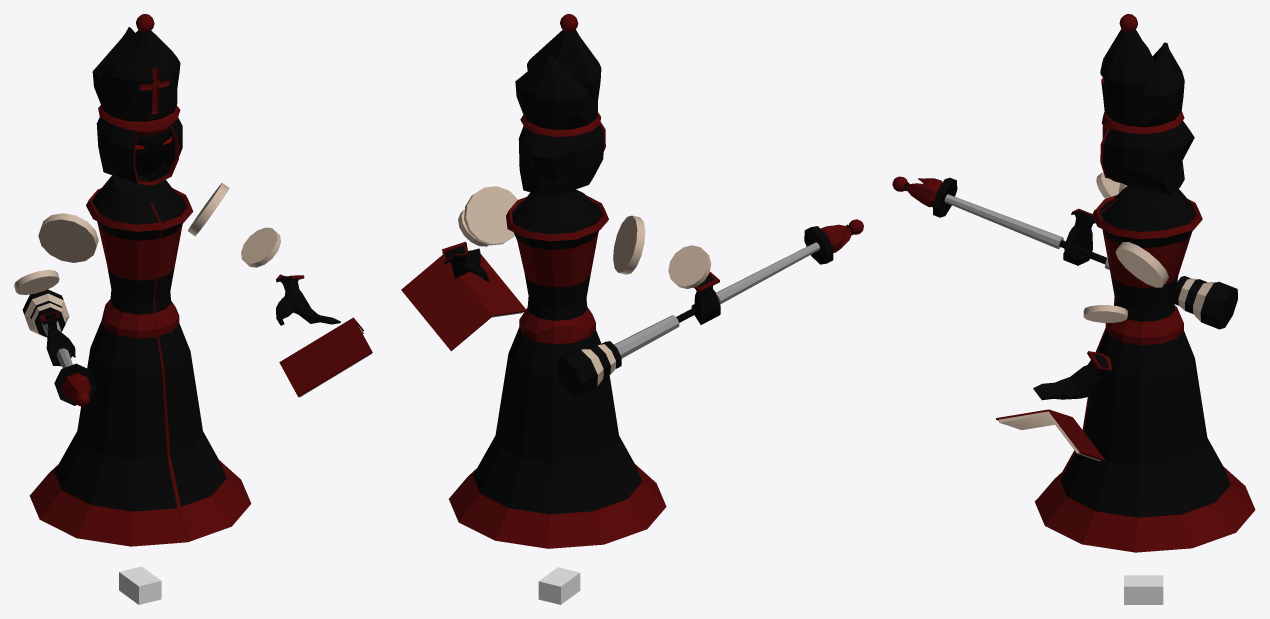
File: Idle_Mage.FBX
3 views of the same model, side by side, from view 1: azimuth 30°, elevation 25°; view 2: azimuth 150°, elevation 25°; view 3: azimuth 270°, elevation 25° (orthographic).
Visible parts, largest first — view 1: Cylinder019, Sphere006, Box007, Cylinder024, Cylinder022, Box006, Box008, Cylinder021, Box005, Cylinder023, Cylinder020; view 2: Cylinder019, Sphere006, Cylinder024, Box007, Cylinder020, Cylinder022, Cylinder023, Box008, Box006, Box005; view 3: Cylinder019, Sphere006, Cylinder024, Box007, Box006, Cylinder020, Box008, Box005, Cylinder021.
Part boxes in pixels (bbox=[...]): Cylinder019: bbox=[29, 175, 251, 546]; Sphere006: bbox=[92, 14, 182, 185]; Box007: bbox=[279, 317, 372, 397]; Cylinder024: bbox=[22, 289, 96, 406]; Cylinder022: bbox=[38, 213, 98, 262]; Box006: bbox=[276, 274, 340, 325]; Box008: bbox=[119, 566, 161, 604]; Cylinder021: bbox=[241, 227, 280, 267]; Box005: bbox=[40, 310, 75, 366]; Cylinder023: bbox=[14, 270, 59, 294]; Cylinder020: bbox=[188, 183, 229, 236]; Cylinder019: bbox=[449, 189, 666, 548]; Sphere006: bbox=[515, 14, 605, 198]; Cylinder024: bbox=[556, 219, 863, 396]; Box007: bbox=[401, 250, 525, 351]; Cylinder020: bbox=[464, 186, 517, 245]; Cylinder022: bbox=[613, 215, 645, 274]; Cylinder023: bbox=[668, 245, 711, 288]; Box008: bbox=[538, 567, 580, 604]; Box006: bbox=[442, 241, 488, 281]; Box005: bbox=[691, 272, 720, 324]; Cylinder019: bbox=[1034, 186, 1255, 552]; Sphere006: bbox=[1100, 14, 1194, 195]; Cylinder024: bbox=[892, 176, 1237, 329]; Box007: bbox=[996, 409, 1105, 461]; Box006: bbox=[1033, 351, 1112, 400]; Cylinder020: bbox=[1115, 242, 1168, 287]; Box008: bbox=[1124, 575, 1163, 604]; Box005: bbox=[1063, 208, 1095, 265]; Cylinder021: bbox=[1083, 305, 1127, 322].
Size of the model in its own units: 322 by 476 by 268.
